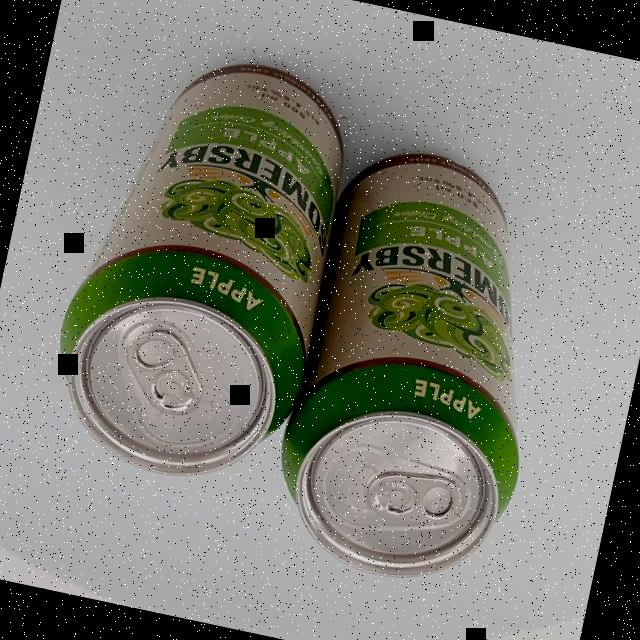can: (34, 36, 366, 500), (258, 135, 581, 600)
